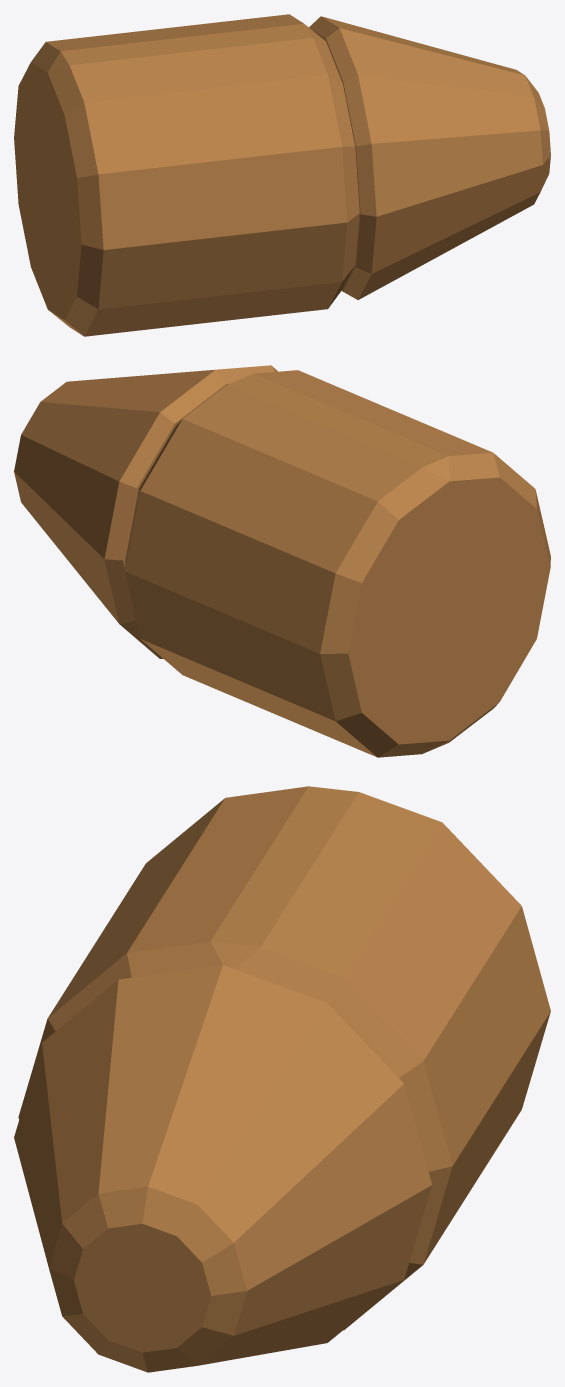
Rendered from AuxAmmoSmallPistolProjectile_Ground.fbx.
3 views of the same model, one above another, from view 1: azimuth 30°, elevation 25°; view 2: azimuth 150°, elevation 25°; view 3: azimuth 270°, elevation 25° (orthographic). The views are drawn at different scales.
Visible parts, largest first — view 1: AuxAmmoSmallPistolProjectile_Ground_GameExport; view 2: AuxAmmoSmallPistolProjectile_Ground_GameExport; view 3: AuxAmmoSmallPistolProjectile_Ground_GameExport.
Boxes of the visible parts, bbox=[...] form: AuxAmmoSmallPistolProjectile_Ground_GameExport: bbox=[14, 14, 550, 336]; AuxAmmoSmallPistolProjectile_Ground_GameExport: bbox=[14, 365, 550, 757]; AuxAmmoSmallPistolProjectile_Ground_GameExport: bbox=[14, 786, 550, 1372].
Bounding box in the file's own units: 1.58 × 1.05 × 0.8527.
